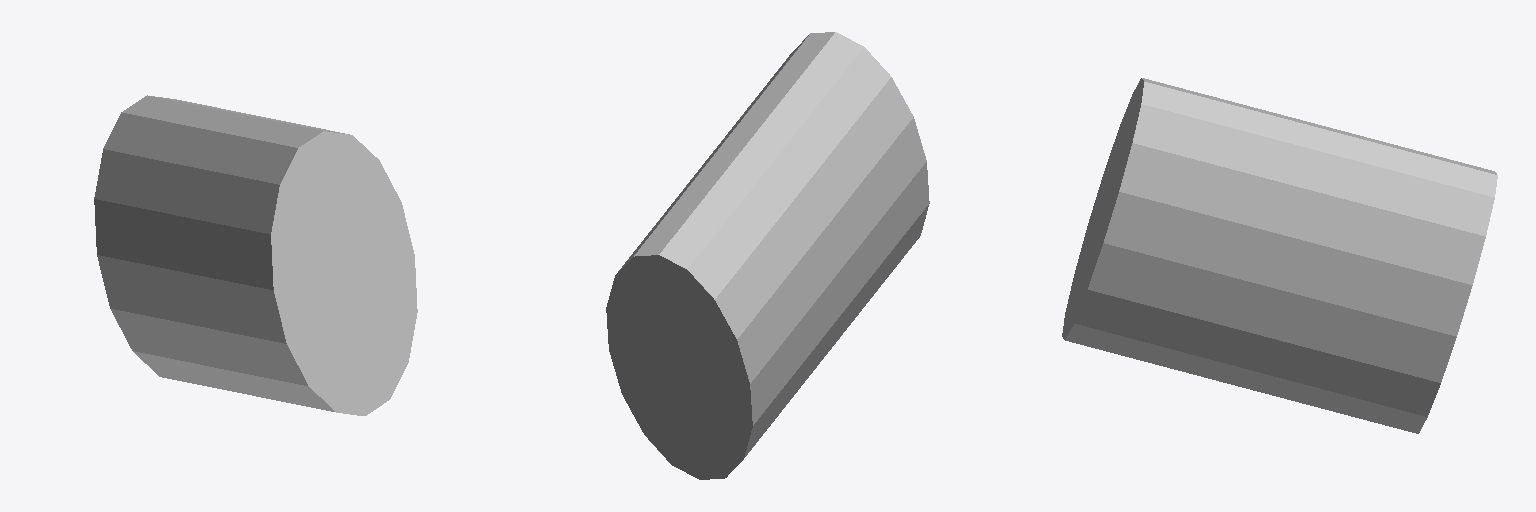
The model's file is original-104.obj.
3 renders of one model, left to right at view 1: azimuth 30°, elevation 25°; view 2: azimuth 150°, elevation 25°; view 3: azimuth 270°, elevation 25°, orthographic.
Visible parts, largest first — view 1: #ID612; view 2: #ID612; view 3: #ID612.
Part boxes in pixels (x1,y1,x2,y2): #ID612: (94, 95, 417, 415); #ID612: (606, 32, 929, 479); #ID612: (1062, 78, 1497, 433).
Bounding box in the file's own units: 0.0026 × 0.0062 × 0.007.